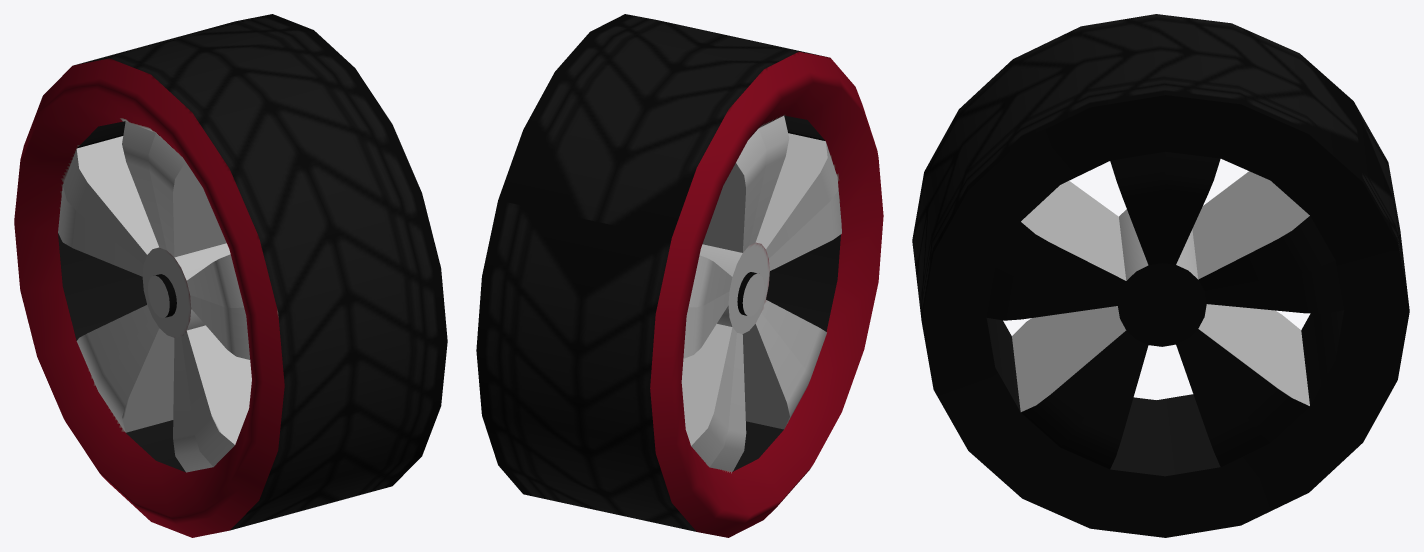
Rendered from car_rightfrontwheel.obj.
The picture shows the model from 3 angles, left to right: view 1: azimuth 30°, elevation 25°; view 2: azimuth 150°, elevation 25°; view 3: azimuth 270°, elevation 25°; orthographic projection.
Visible parts, largest first — view 1: Front_Right_Wheel; view 2: Front_Right_Wheel; view 3: Front_Right_Wheel.
Boxes of the visible parts, left/top/right/bottom form: Front_Right_Wheel: left=14, top=14, right=447, bottom=537; Front_Right_Wheel: left=476, top=14, right=883, bottom=537; Front_Right_Wheel: left=912, top=14, right=1409, bottom=537.
Bounding box in the file's own units: 0.6352 × 1.32 × 1.34.
Materials: 1 (1 with a texture image).
